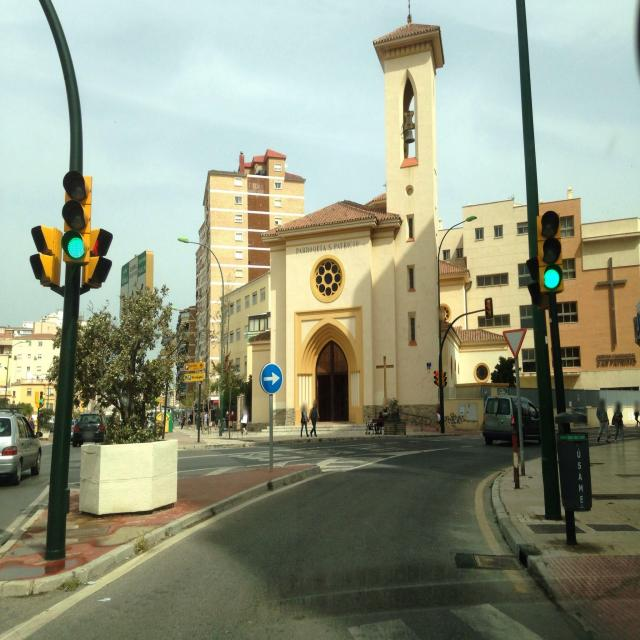car: (0, 411, 42, 486), (482, 394, 541, 446), (71, 413, 108, 445)
